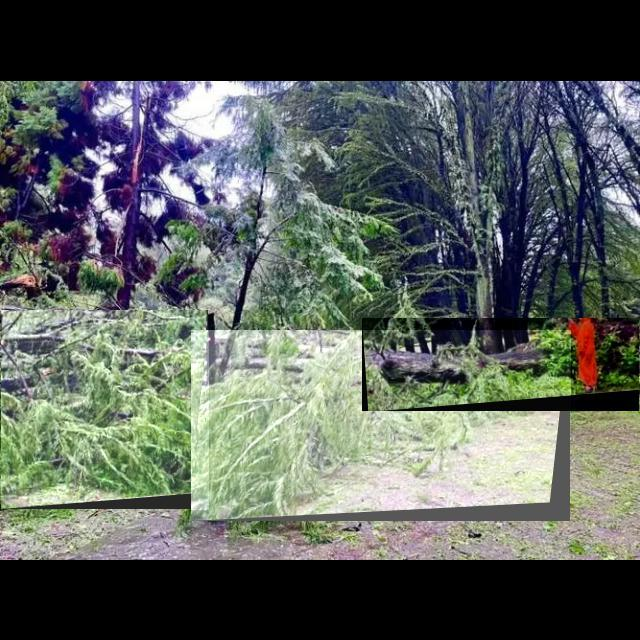fallen_tree: (191, 330, 571, 522), (1, 310, 209, 510), (362, 318, 640, 412)
